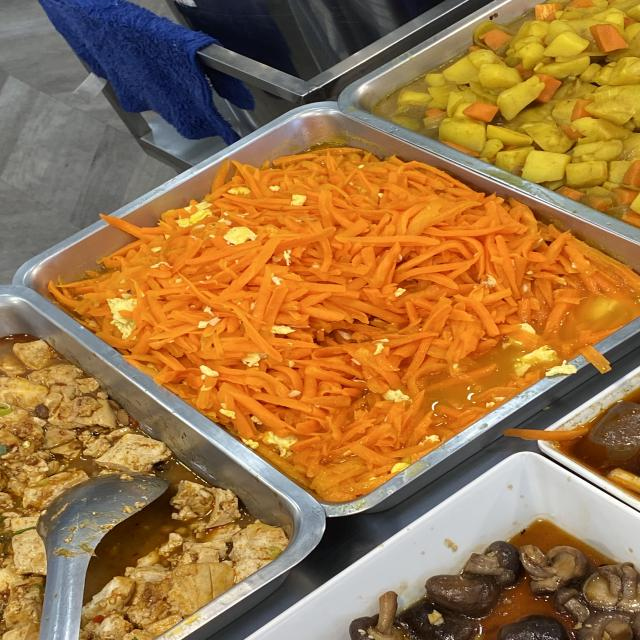Scrambled eggs with carrots: (185, 213, 484, 394)
